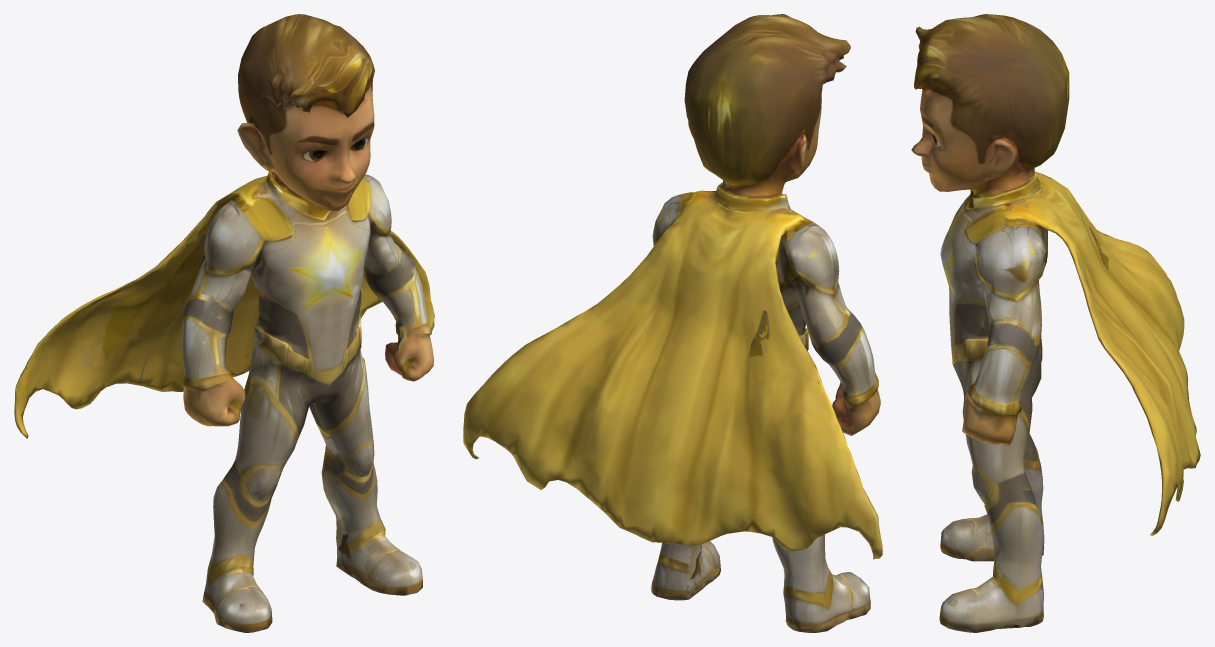
The model's file is herolumeboy.glb.
3 renders of one model, left to right at view 1: azimuth 30°, elevation 25°; view 2: azimuth 150°, elevation 25°; view 3: azimuth 270°, elevation 25°, orthographic.
Size of the model in its own units: 1.53 by 2 by 0.9315.
1 material, 1 textured.
